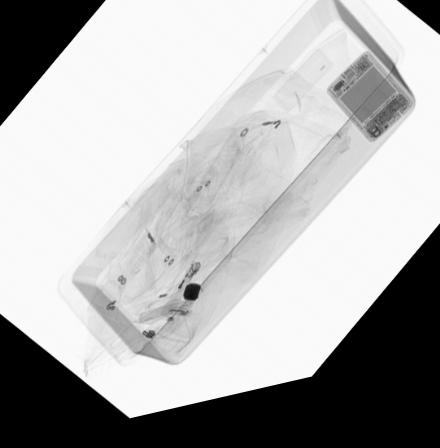Lighter: (160, 269, 203, 323)
